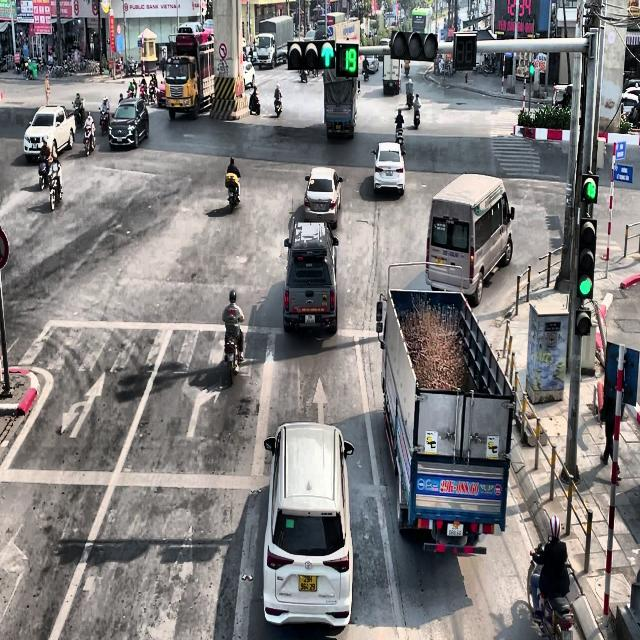lisence_plate: (441, 474, 479, 499), (298, 573, 317, 592), (446, 521, 464, 537), (442, 248, 460, 258), (304, 313, 316, 325), (434, 257, 443, 267), (316, 202, 323, 210), (333, 108, 344, 113), (386, 170, 392, 177), (336, 124, 341, 129), (390, 82, 393, 87)
